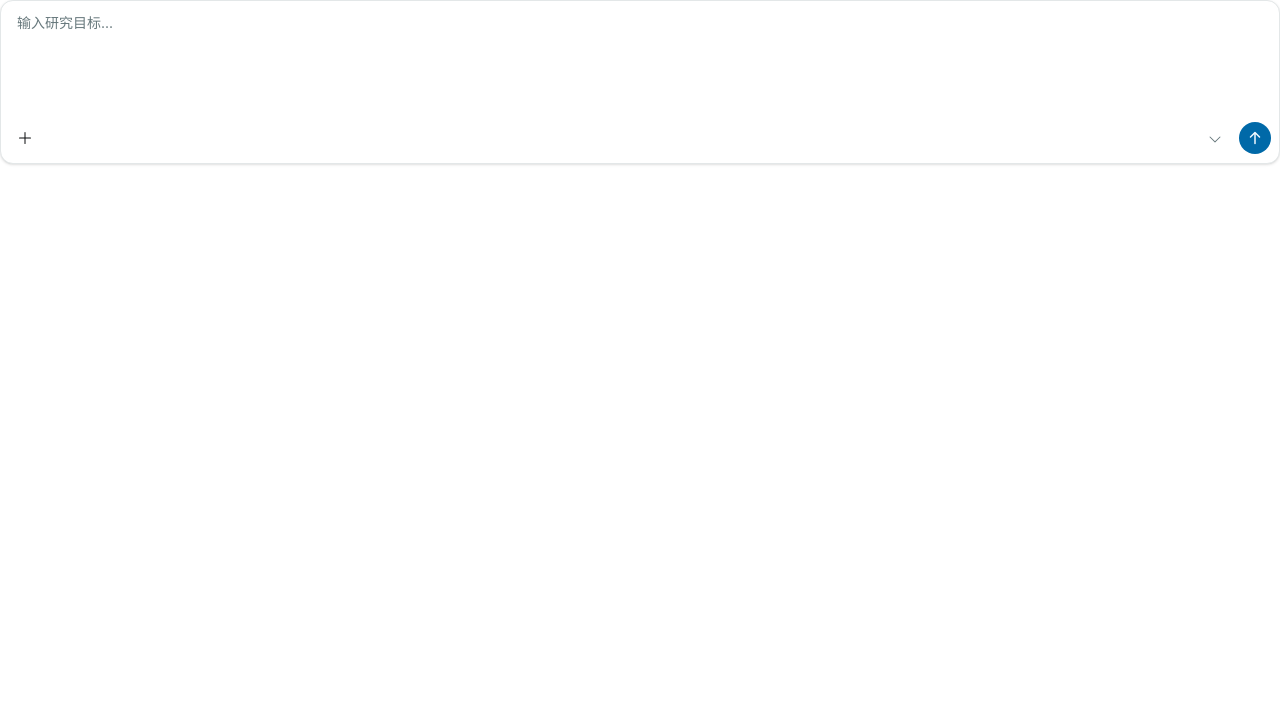
Scenario: AgentComposer model selector › shows an empty state with a settings link when no models are configured
Click the dropdown named "点击选择模型". click: point(1213, 139)
box: [1193, 123, 1233, 155]
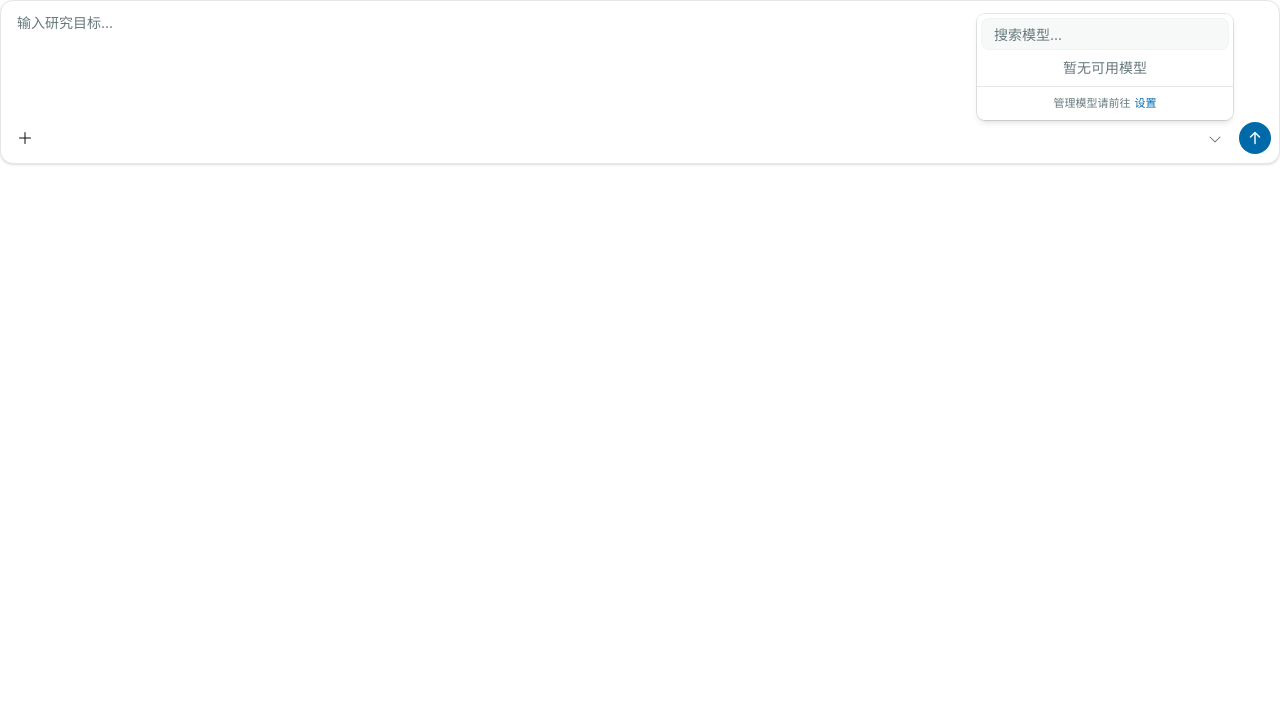
Now the dropdown with placeholder "搜索模型..." is shown, box [982, 16, 1220, 52]
Now the button "设置" is shown
Click the button "设置". click: point(1146, 103)
box: [1134, 95, 1156, 112]
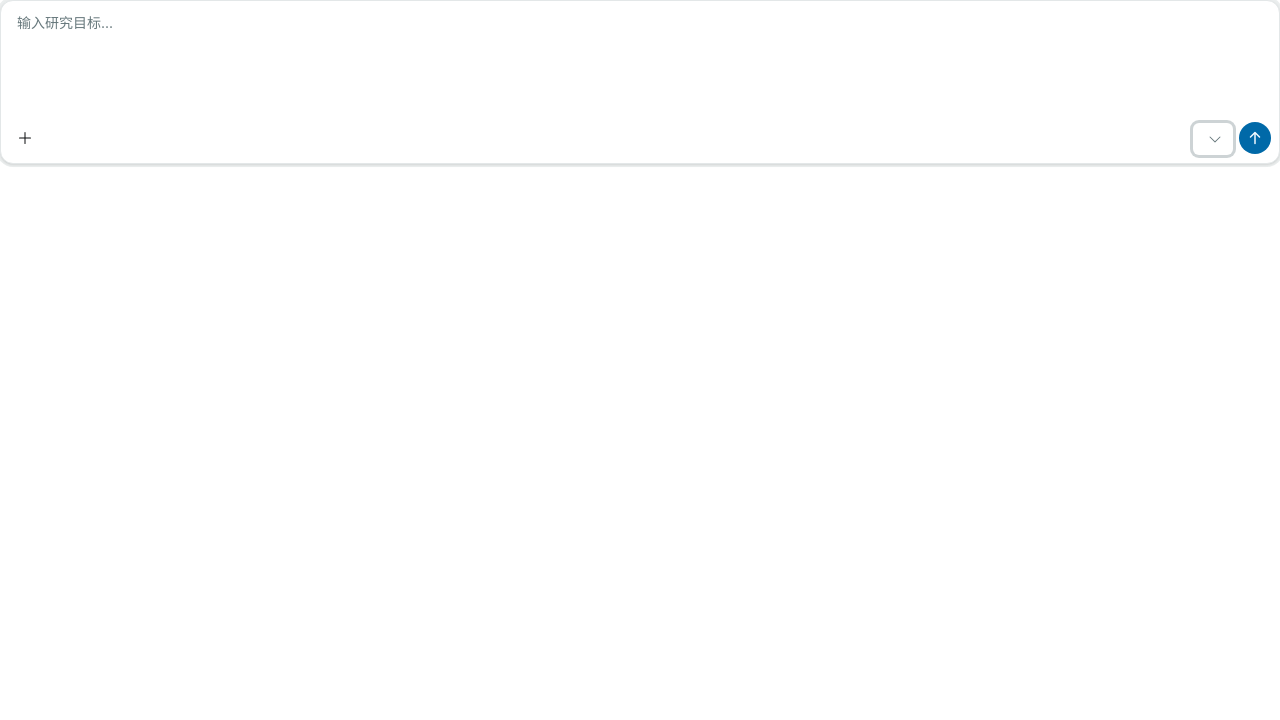
Now the dropdown with placeholder "搜索模型..." is gone
